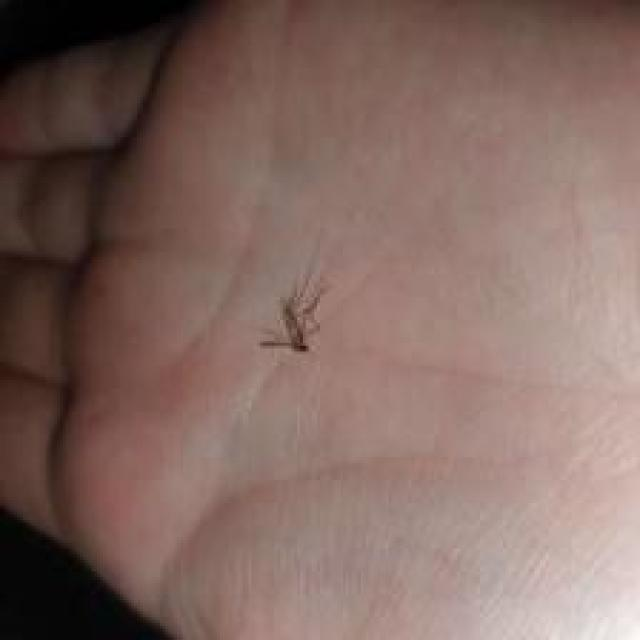Culex: (257, 270, 329, 356)
